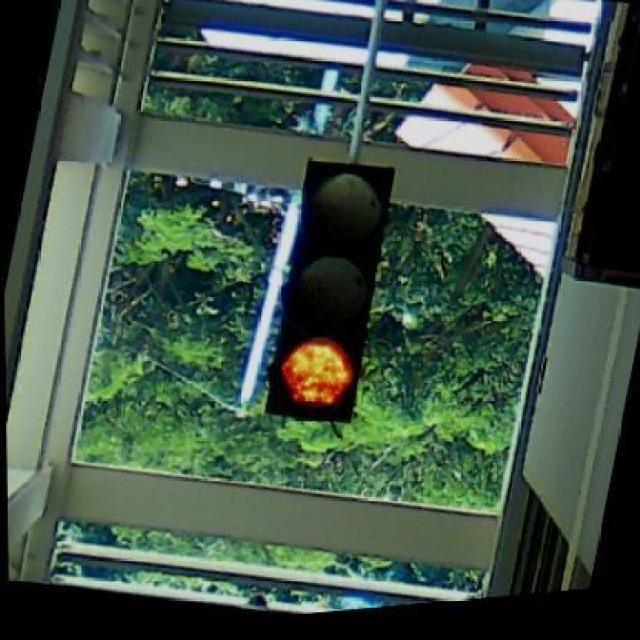Traffic Light -Red-: (242, 154, 410, 441)
